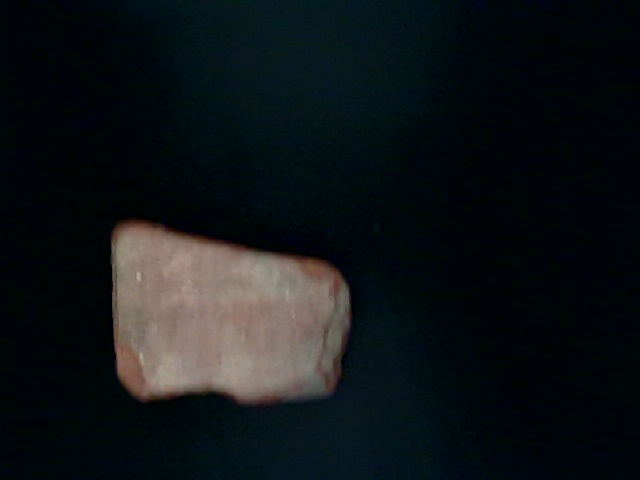KHSLJ: (141, 263, 463, 480)
